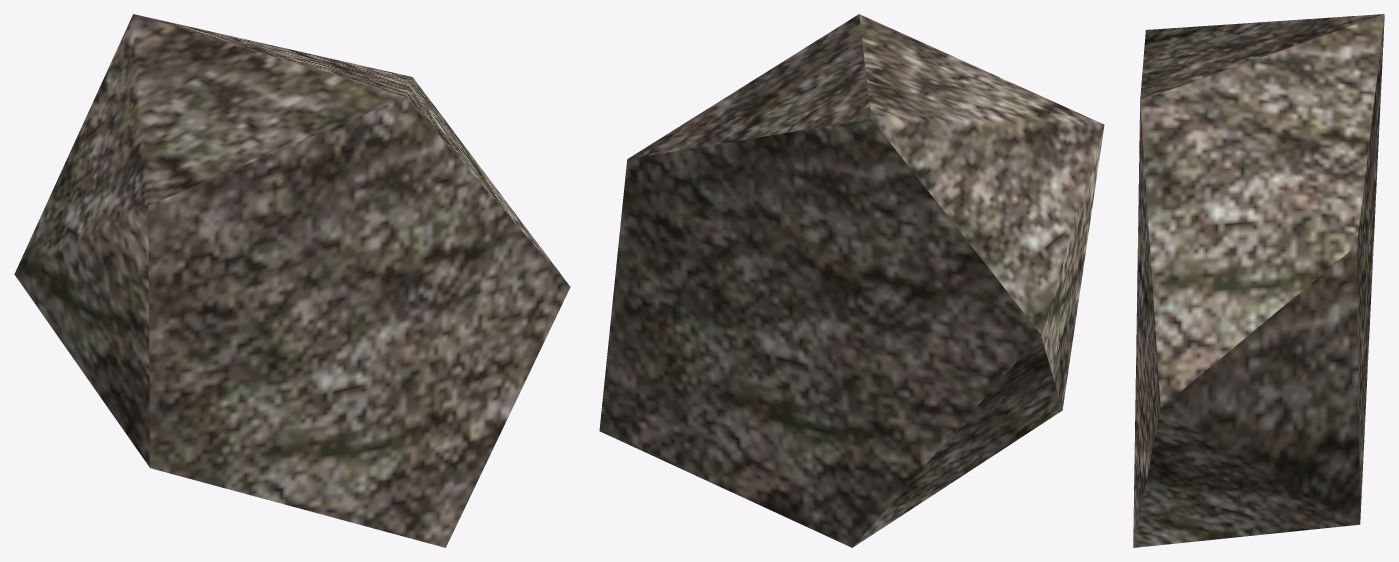
The model's file is RockParticle2.gltf.
The picture shows the model from 3 angles, left to right: view 1: azimuth 30°, elevation 25°; view 2: azimuth 150°, elevation 25°; view 3: azimuth 270°, elevation 25°; orthographic projection. The views are drawn at different scales.
Parts seen in each view (by area): view 1: RockParticle2Mesh; view 2: RockParticle2Mesh; view 3: RockParticle2Mesh.
Part boxes in pixels (x1,y1,x2,y2): RockParticle2Mesh: (14, 14, 570, 547); RockParticle2Mesh: (599, 14, 1104, 547); RockParticle2Mesh: (1133, 14, 1384, 547).
Size of the model in its own units: 0.2706 by 0.2672 by 0.1349.
Materials: 1 (1 with a texture image).
